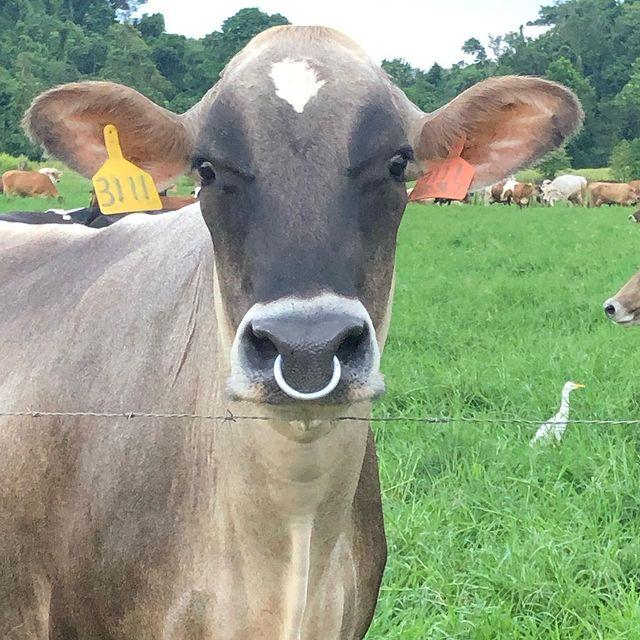cowFace: (11, 7, 590, 419)
